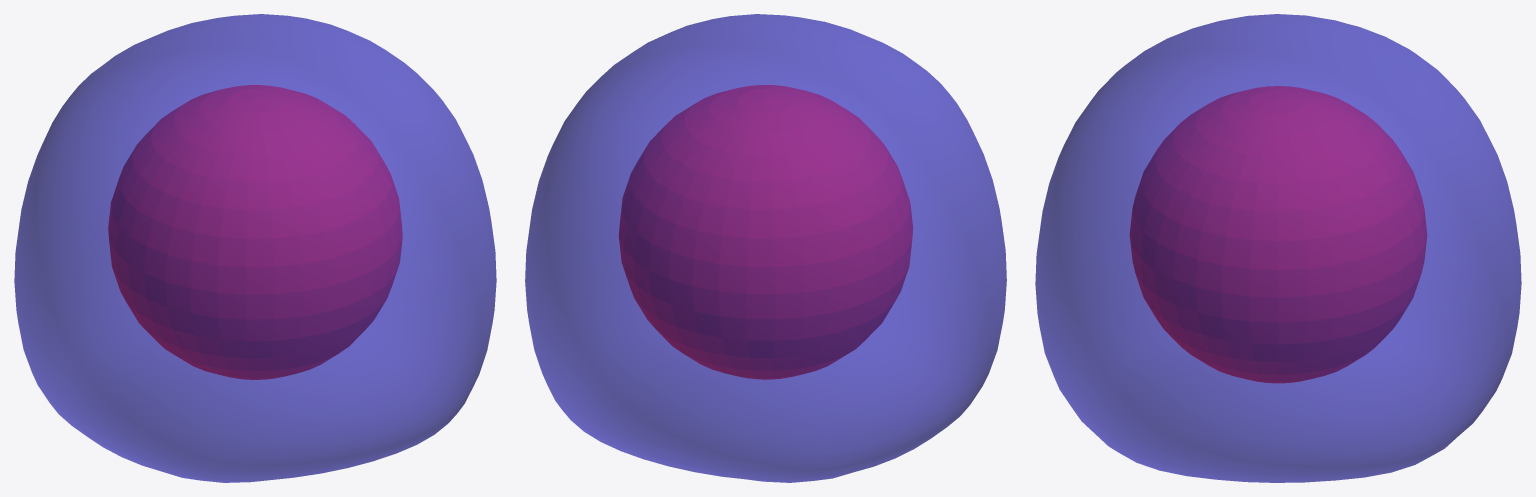
Rendered from pruebita.fbx.
3 views of the same model, side by side, from view 1: azimuth 30°, elevation 25°; view 2: azimuth 150°, elevation 25°; view 3: azimuth 270°, elevation 25° (orthographic).
Parts seen in each view (by area): view 1: Cube, Sphere; view 2: Cube, Sphere; view 3: Cube, Sphere.
Part boxes in pixels (x1,y1,x2,y2): Cube: (14,14,496,482); Sphere: (108,85,402,379); Cube: (525,14,1006,482); Sphere: (619,85,912,379); Cube: (1035,14,1521,482); Sphere: (1130,86,1426,382).
Bounding box in the file's own units: 327 × 281 × 327.
